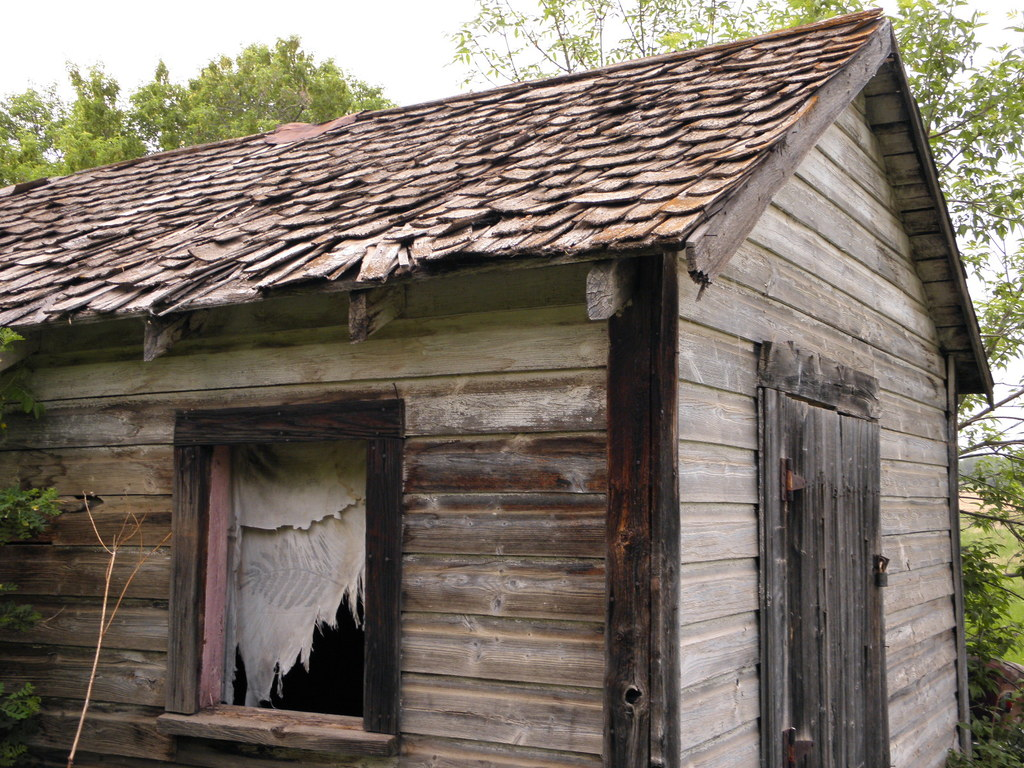Tree: (441, 0, 1024, 756), (0, 31, 398, 188)
